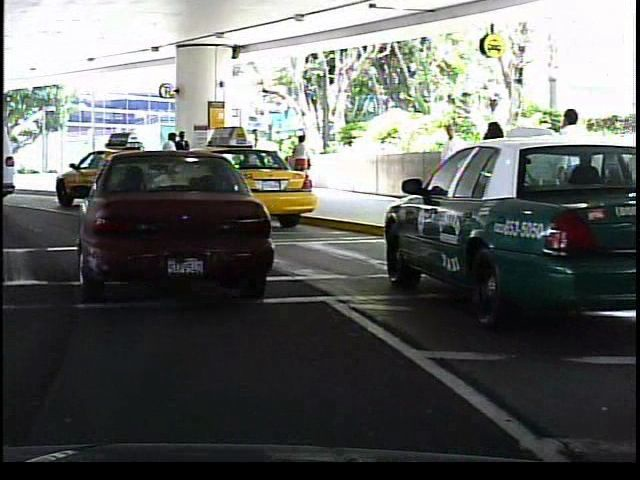person: (476, 110, 525, 240), (547, 101, 592, 238), (434, 117, 469, 212), (243, 124, 269, 190), (287, 131, 313, 190), (159, 131, 181, 191), (174, 128, 193, 190)
